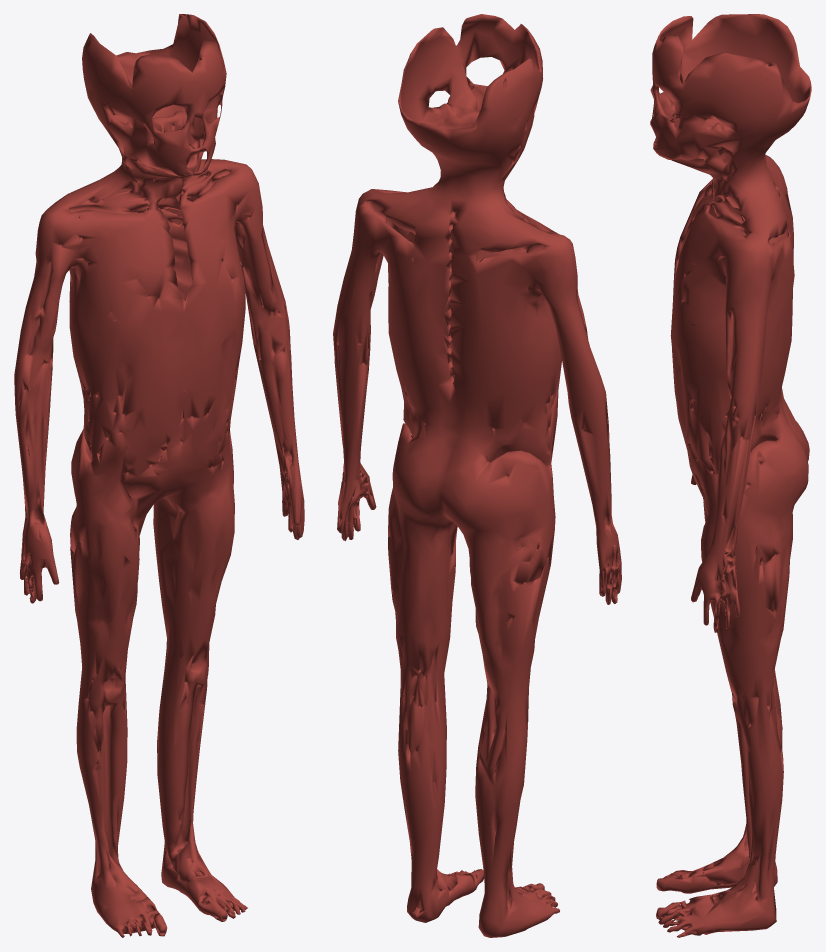
Rendered from pediatric_child_5y_male.muscular.LOD2.glb.
The picture shows the model from 3 angles, left to right: view 1: azimuth 30°, elevation 25°; view 2: azimuth 150°, elevation 25°; view 3: azimuth 270°, elevation 25°; orthographic projection.
Parts seen in each view (by area): view 1: PEDIATRIC.CHILD_5Y.MALE.MUSCULAR.MUSCLE; view 2: PEDIATRIC.CHILD_5Y.MALE.MUSCULAR.MUSCLE; view 3: PEDIATRIC.CHILD_5Y.MALE.MUSCULAR.MUSCLE.
Part boxes in pixels (<box>): PEDIATRIC.CHILD_5Y.MALE.MUSCULAR.MUSCLE: <box>14,14,304,937</box>; PEDIATRIC.CHILD_5Y.MALE.MUSCULAR.MUSCLE: <box>333,14,621,937</box>; PEDIATRIC.CHILD_5Y.MALE.MUSCULAR.MUSCLE: <box>650,14,811,937</box>.
Size of the model in its own units: 0.3468 by 1.06 by 0.1766.
